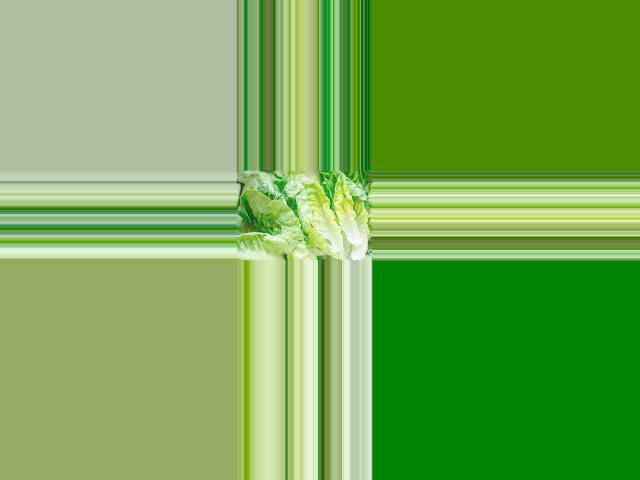lettuce: (282, 176, 369, 261)
